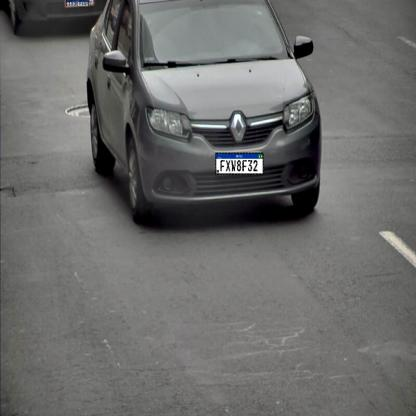PlacaM: (215, 152, 264, 174), (66, 0, 89, 6)
